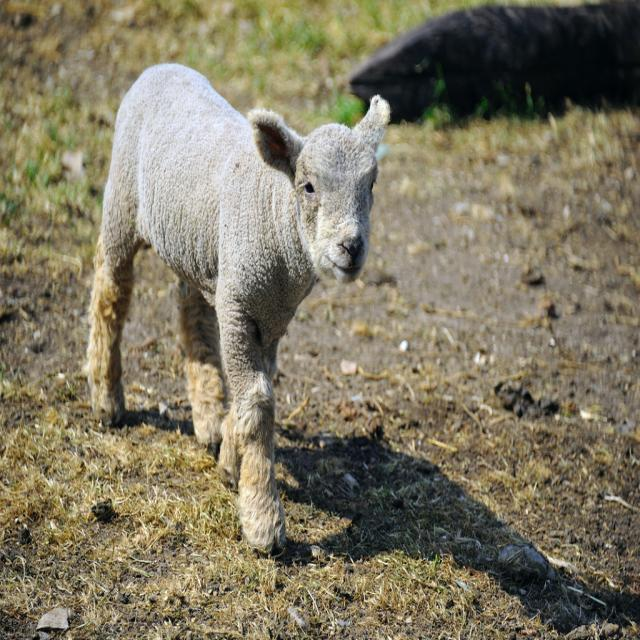Sheep: (73, 54, 399, 540)
